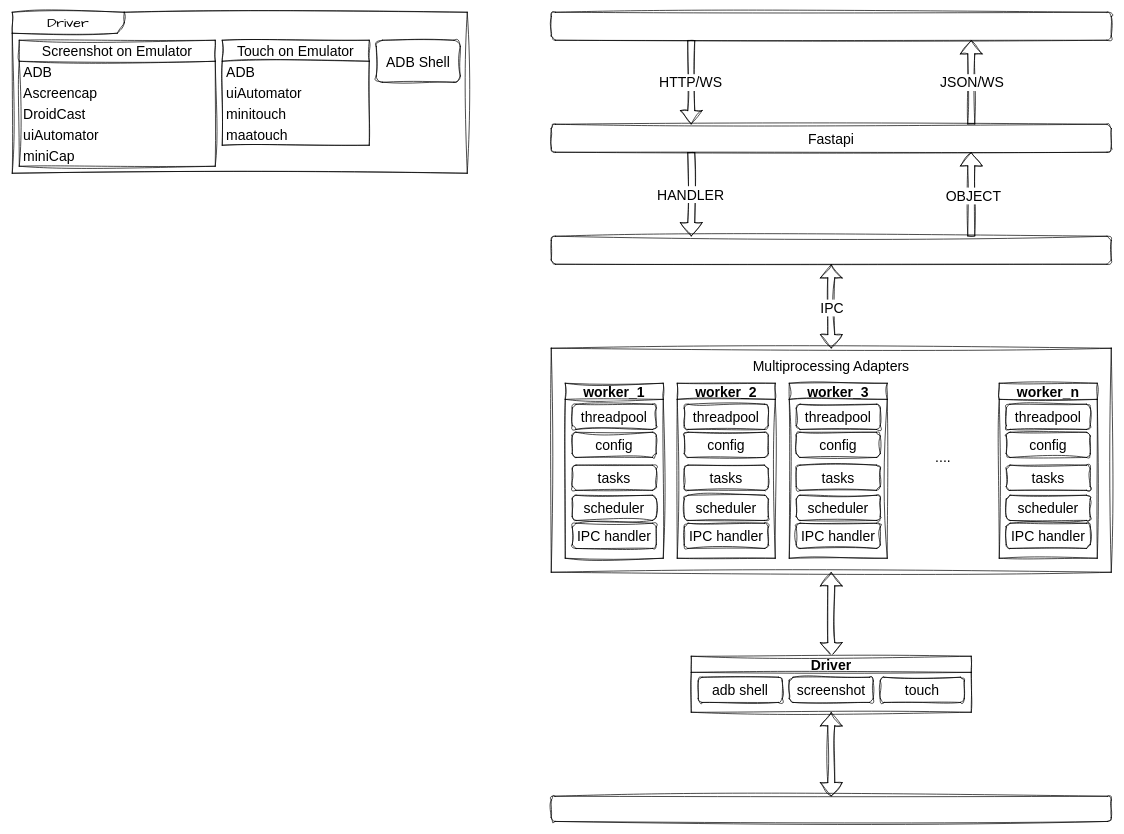
Some shapes in this 1124 by 834 pixel diagram are drawn without their labels. The shapes that lost their labels are listed below. From the top down, each one's centre as x and y in pixels, then its label:
pixel 831 26: FrontEnd/CLI/Client
pixel 831 250: Manager
pixel 831 808: Emulator/DesktopApp/Browser
